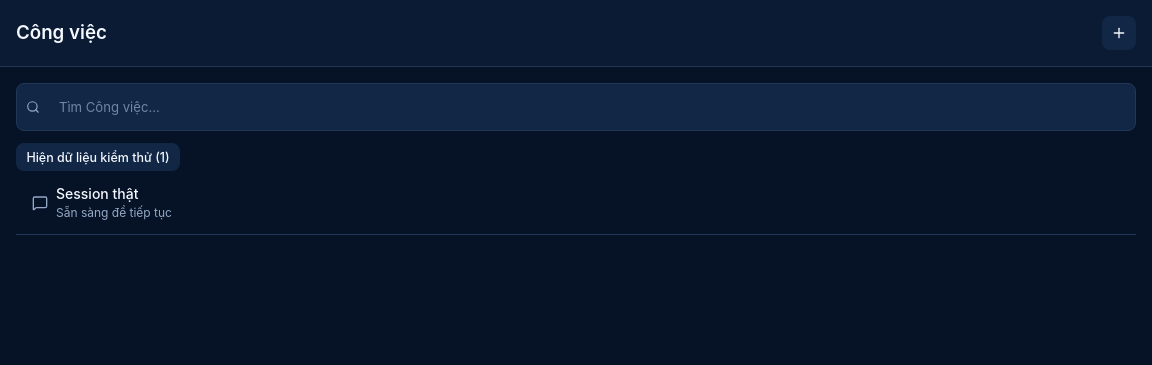
Test: SessionList › hiển thị lỗi inline khi dọn phiên test thất bại
Click the button "Hiện dữ liệu kiểm thử (1)": (98, 157) [16,143,180,171]
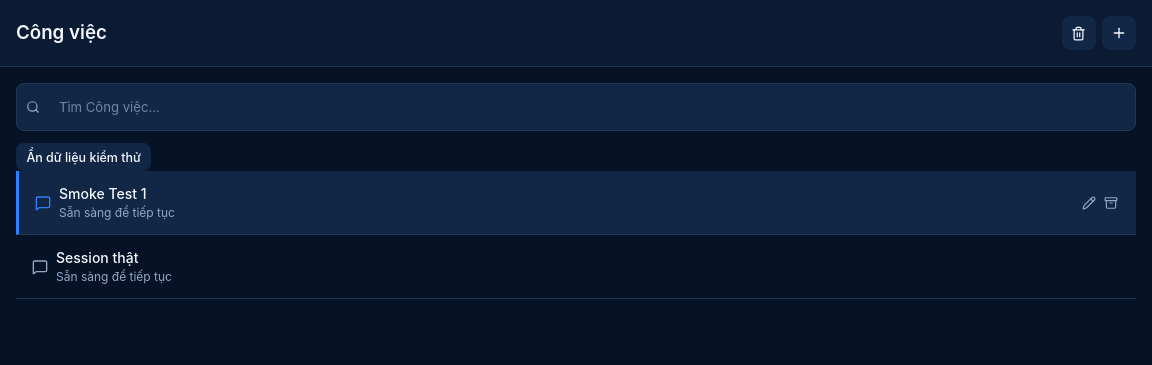
Click the button titled "Lưu trữ dữ liệu thử nghiệm": (1079, 33) [1062,16,1096,50]
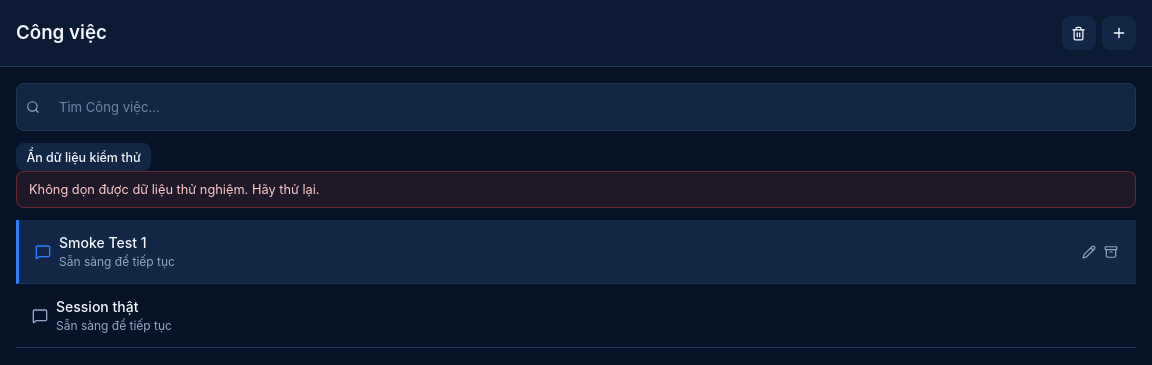
Check: the text "Không dọn được dữ liệu thử nghiệm. Hãy thử lại." is shown, box [16,171,1136,208]
